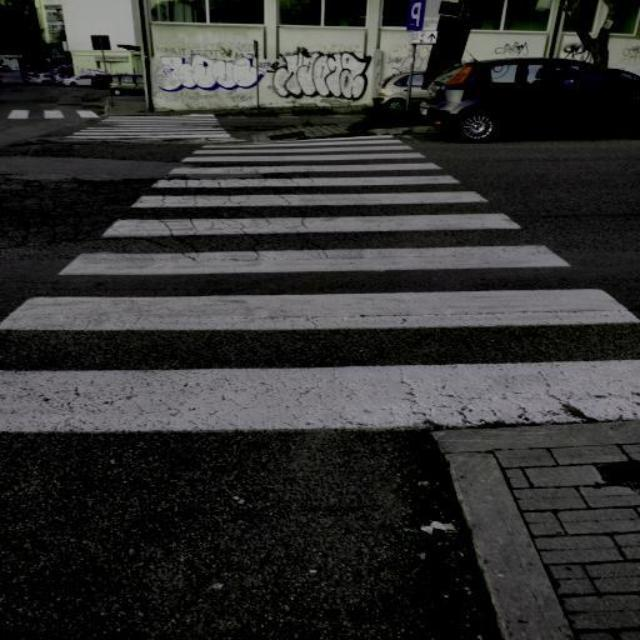sidewalk: (0, 121, 640, 421)
